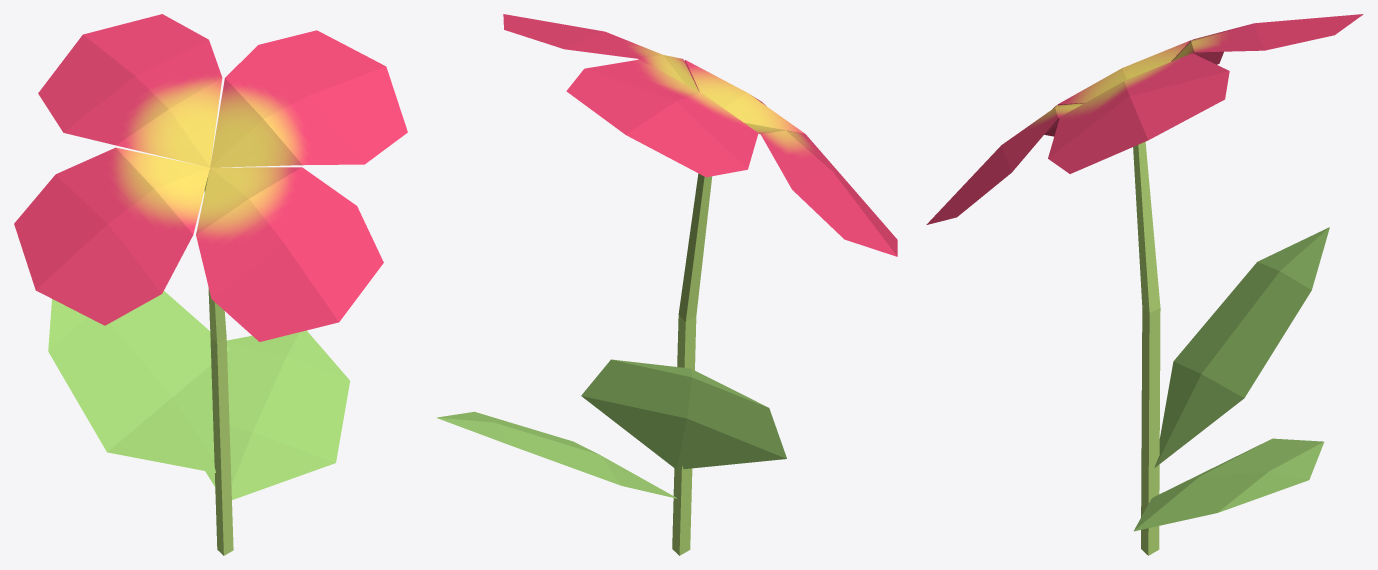
Rendered from Flower_c_TwoS_10.fbx.
3 renders of one model, left to right at view 1: azimuth 30°, elevation 25°; view 2: azimuth 150°, elevation 25°; view 3: azimuth 270°, elevation 25°, orthographic. The views are drawn at different scales.
Parts seen in each view (by area): view 1: Flower_c_TwoS_10; view 2: Flower_c_TwoS_10; view 3: Flower_c_TwoS_10.
Part boxes in pixels (box(x1,y1,x2,y2)): Flower_c_TwoS_10: box(14, 14, 407, 555); Flower_c_TwoS_10: box(437, 14, 897, 555); Flower_c_TwoS_10: box(926, 14, 1363, 555).
Size of the model in its own units: 0.3014 by 0.3848 by 0.2891.
